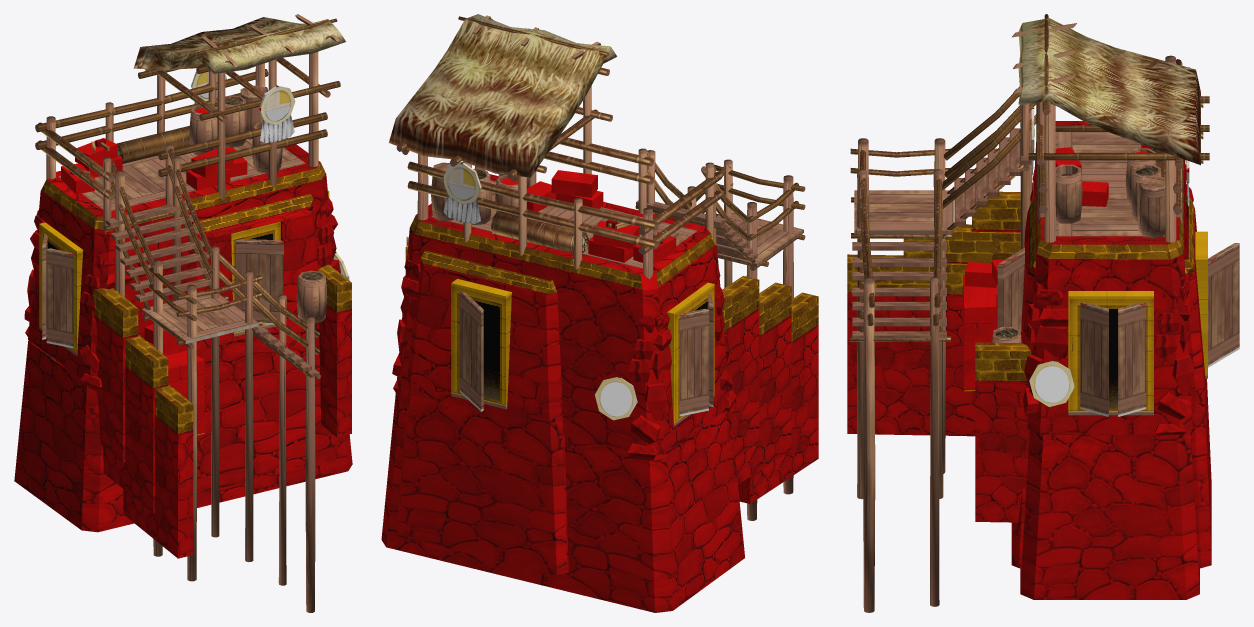
Rendered from zapo_storehouse.dae.
The picture shows the model from 3 angles, left to right: view 1: azimuth 30°, elevation 25°; view 2: azimuth 150°, elevation 25°; view 3: azimuth 270°, elevation 25°; orthographic projection. The views are drawn at different scales.
Parts seen in each view (by area): view 1: Cube_006; view 2: Cube_006; view 3: Cube_006.
Boxes of the visible parts, x1,y1,x2,y2 form: Cube_006: [14, 14, 352, 612]; Cube_006: [381, 14, 818, 612]; Cube_006: [847, 14, 1239, 612].
Size of the model in its own units: 12.09 by 12.93 by 21.06.
